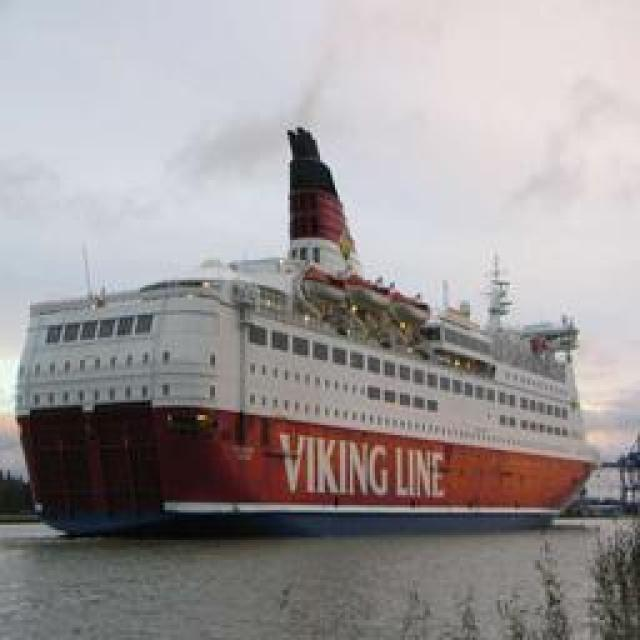ship2: (15, 129, 602, 541)
